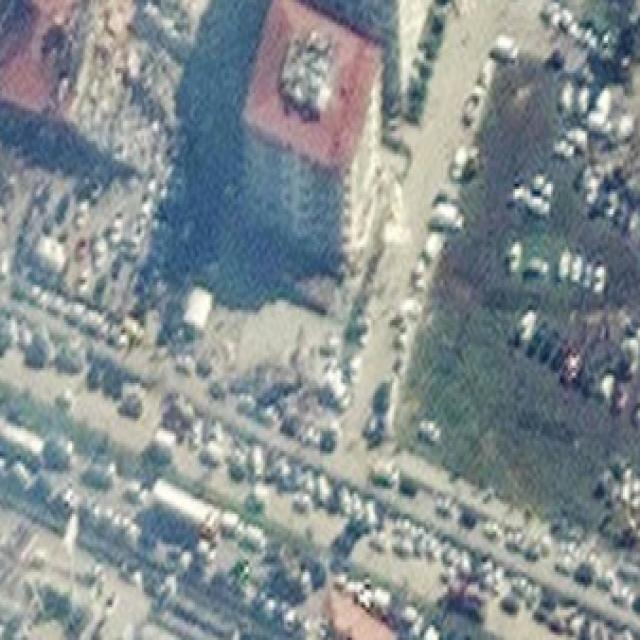Rubble: (70, 3, 192, 165)
